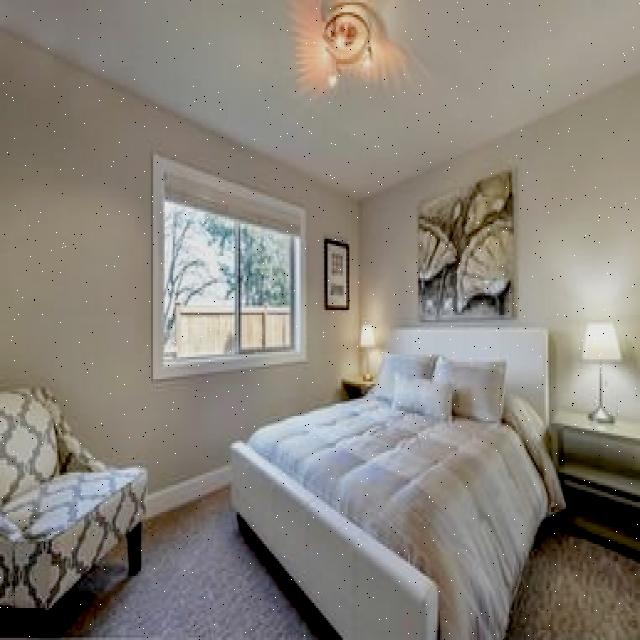bed: (227, 329, 554, 640)
